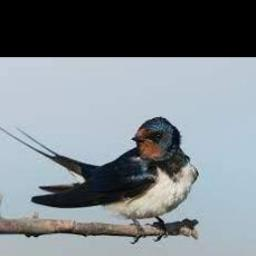Swallow: (0, 117, 197, 240)
